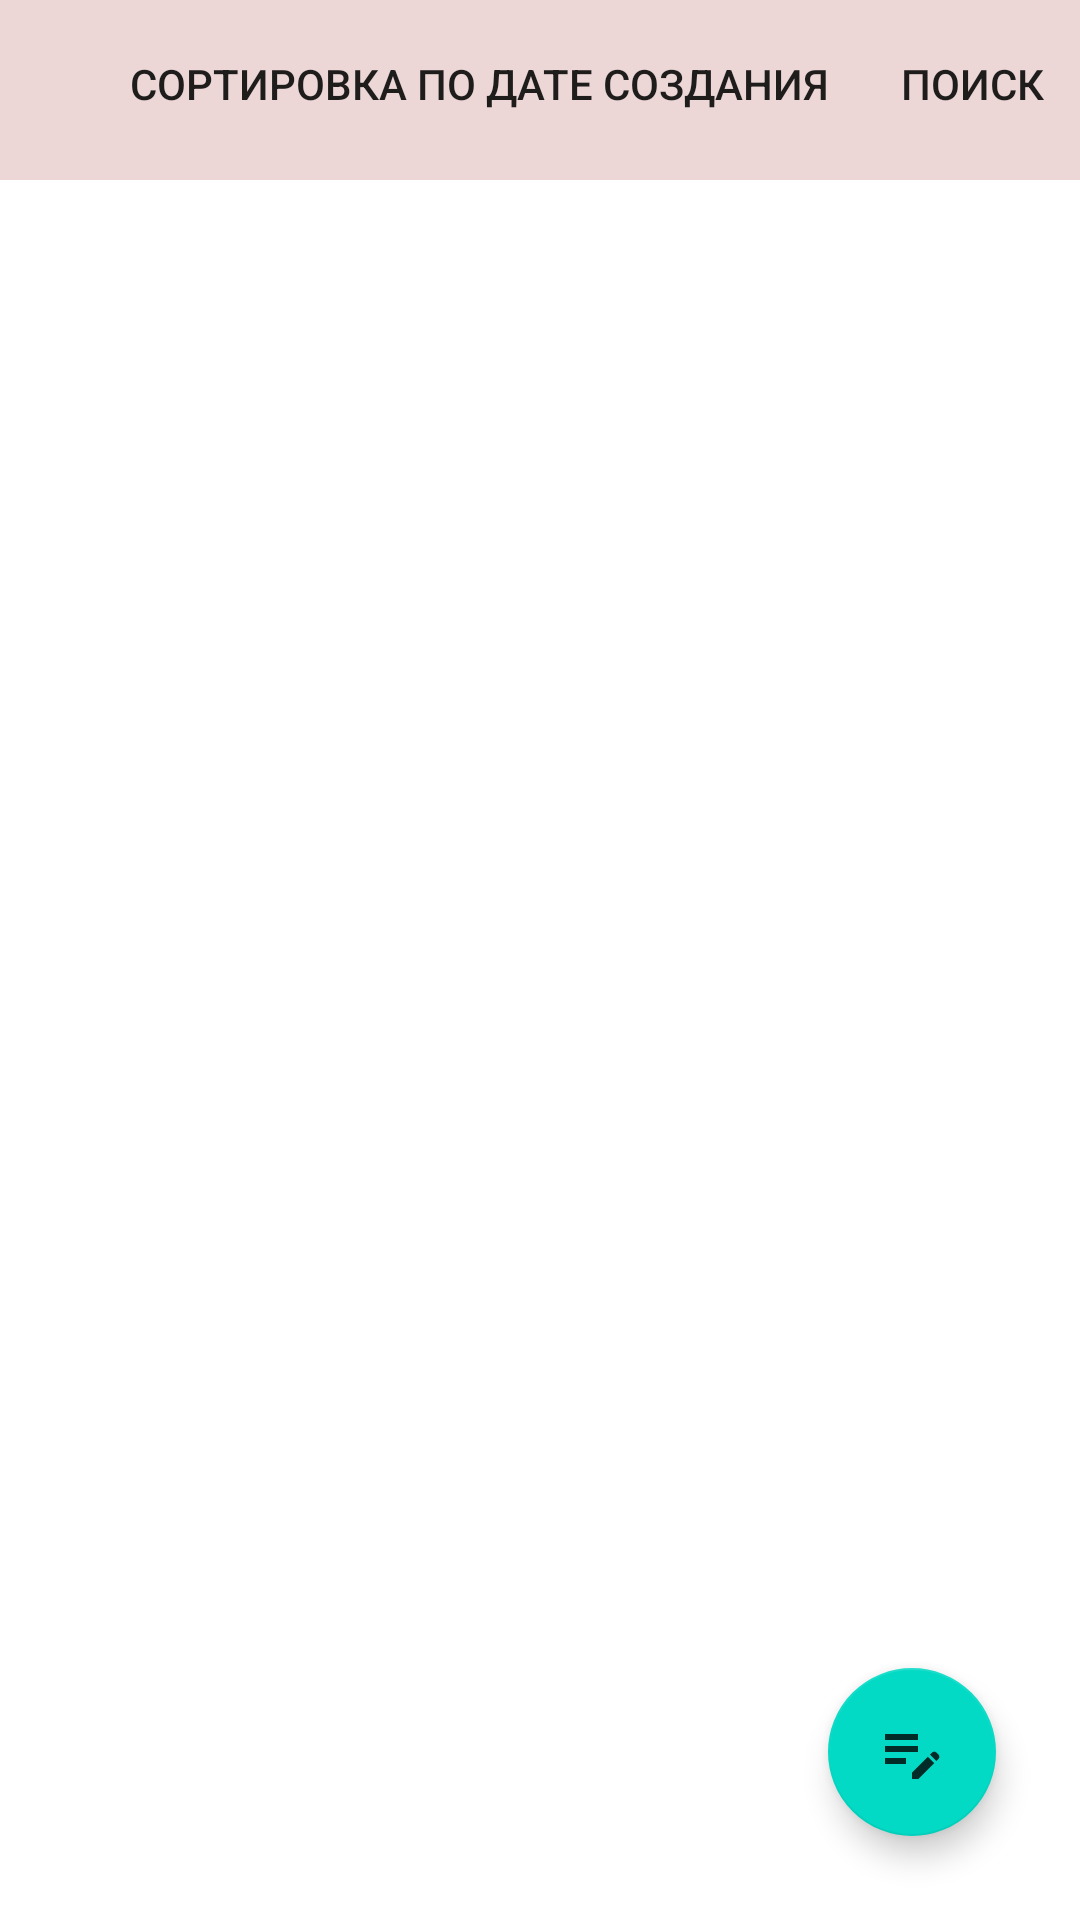

Icon click points for this 1080w x 1920h phone screenshot, format [x,y]:
edit note: [912,1752]
